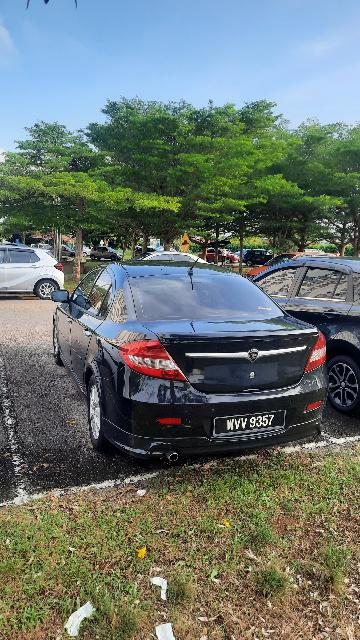License_Plate: (213, 410, 290, 437)
car: (49, 257, 334, 465), (253, 254, 360, 419)
